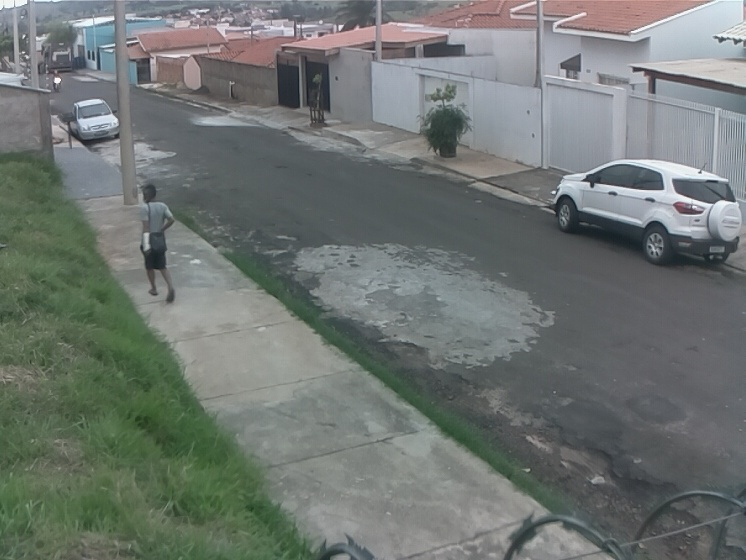person: (137, 180, 179, 305)
